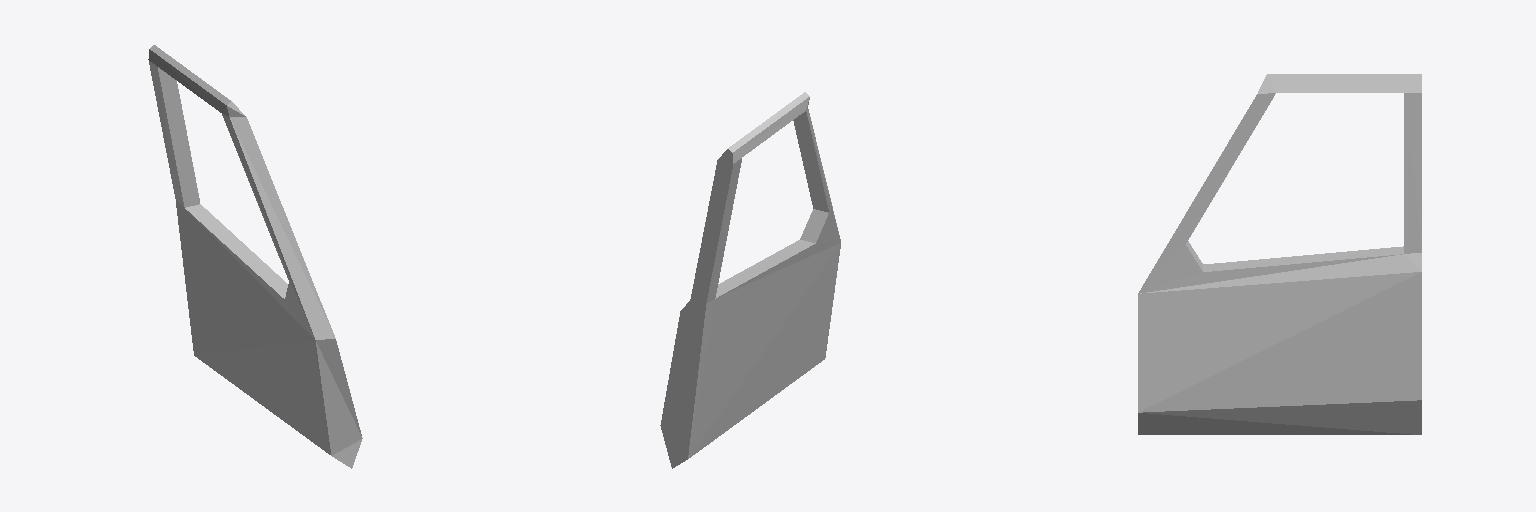
The model's file is door.obj.
3 views of the same model, side by side, from view 1: azimuth 30°, elevation 25°; view 2: azimuth 150°, elevation 25°; view 3: azimuth 270°, elevation 25° (orthographic).
Parts seen in each view (by area): view 1: Door; view 2: Door; view 3: Door.
Part boxes in pixels (x1,y1,x2,y2): Door: (148, 45, 362, 468); Door: (660, 92, 840, 468); Door: (1138, 74, 1421, 434).
Bounding box in the file's own units: 0.4571 × 2 × 1.54.